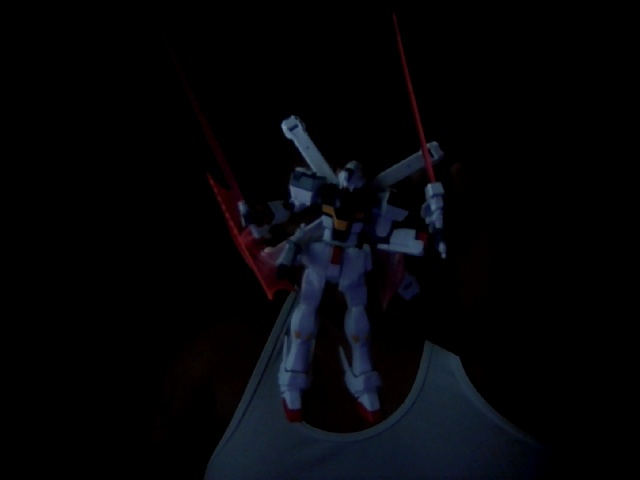Crossbones: (241, 111, 451, 424)
